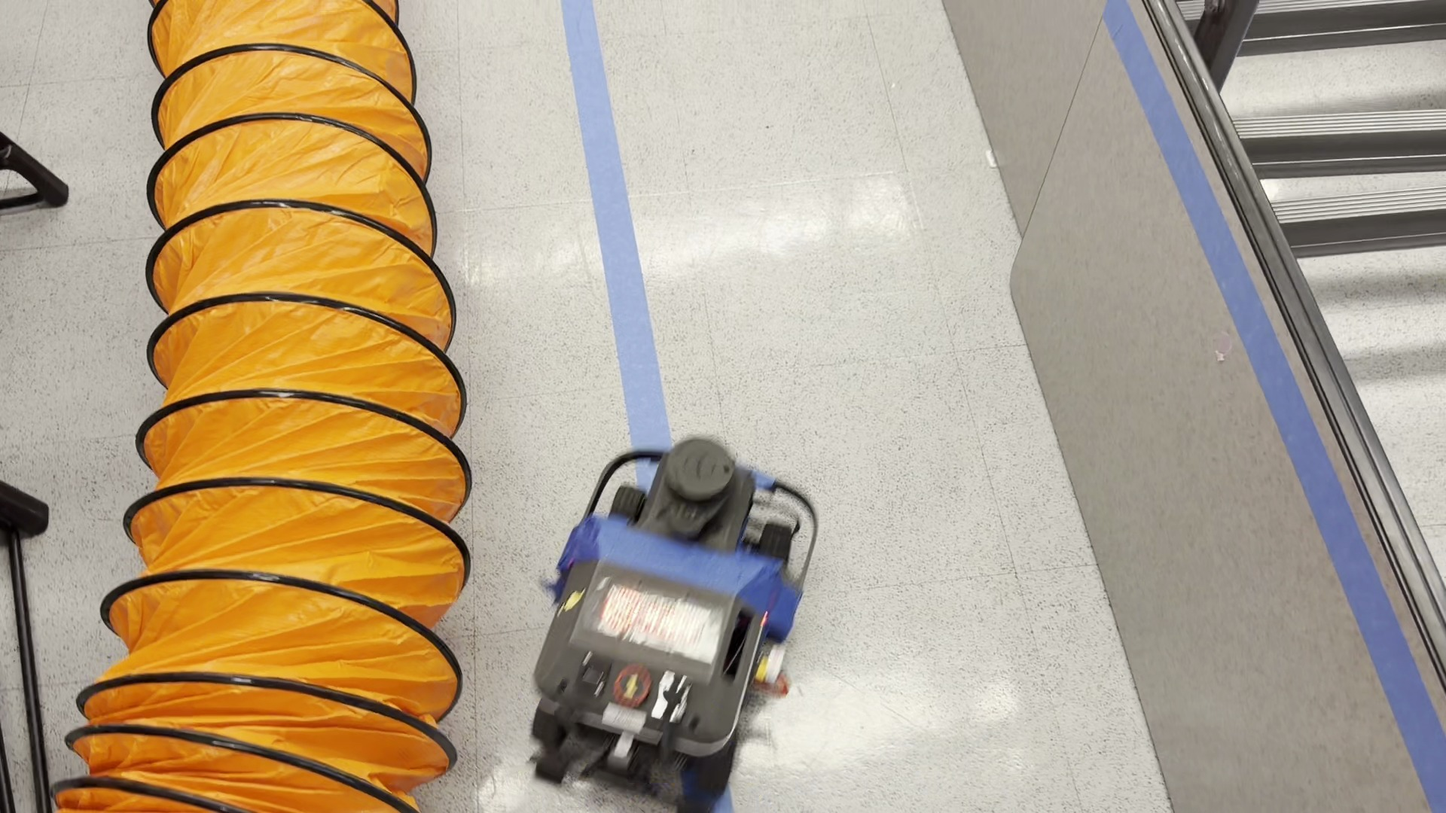racecar: (532, 439, 812, 813)
